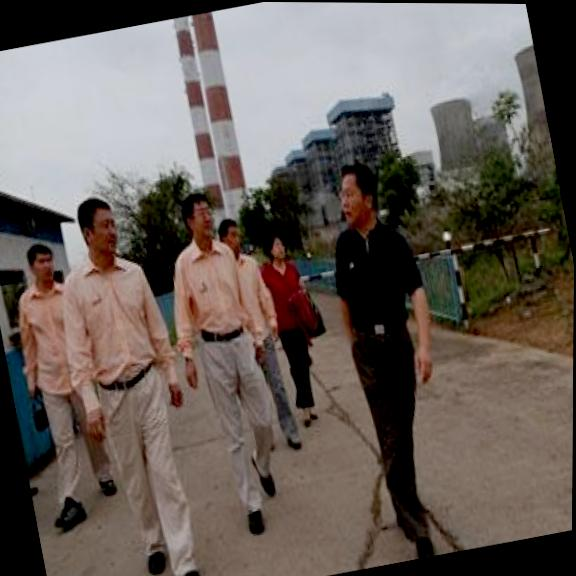no_safety_vest: (48, 243, 182, 405), (321, 212, 439, 355), (156, 230, 260, 366), (1, 277, 88, 399), (221, 240, 287, 352), (258, 253, 321, 346)
